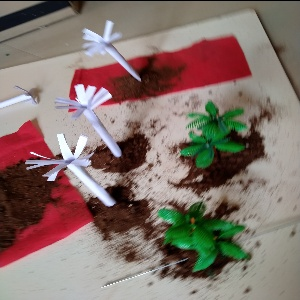plant: (152, 201, 248, 281), (180, 97, 252, 178)
weed: (27, 132, 121, 216), (56, 82, 129, 160), (78, 18, 142, 84), (1, 88, 45, 110)
